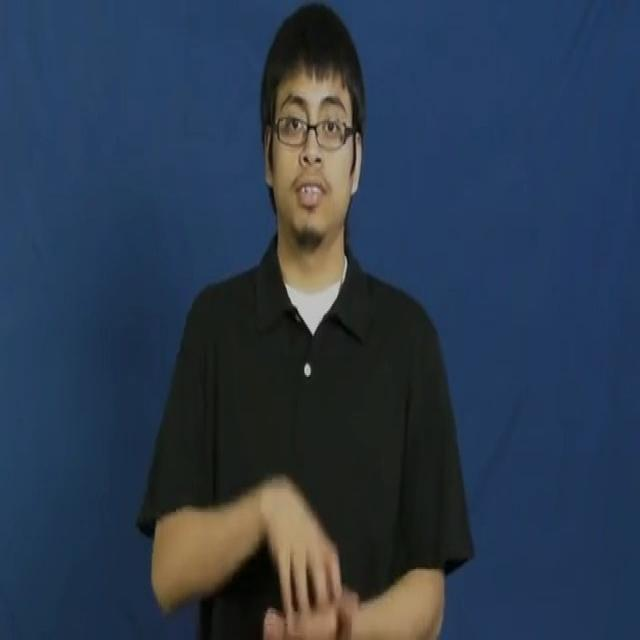cake: (218, 430, 392, 640)
